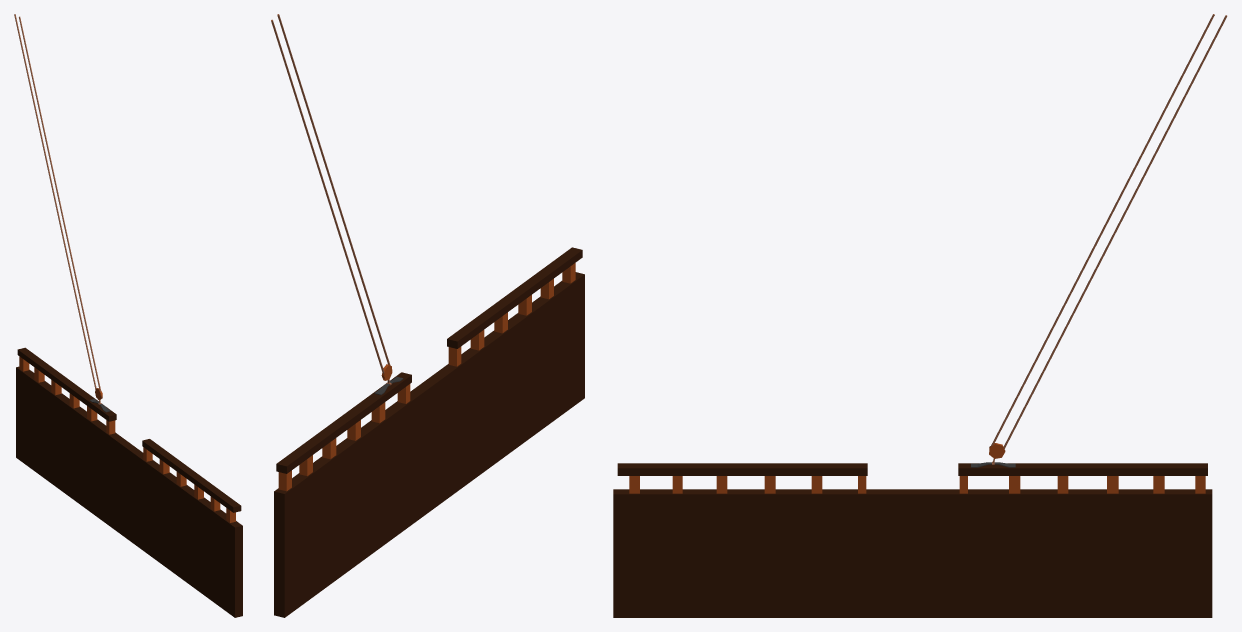
File: bordaBarco.FBX
3 renders of one model, left to right at view 1: azimuth 30°, elevation 25°; view 2: azimuth 150°, elevation 25°; view 3: azimuth 270°, elevation 25°, orthographic. The views are drawn at different scales.
Parts seen in each view (by area): view 1: Box001; view 2: Box001; view 3: Box001.
Part boxes in pixels (x1=…): Box001: x1=14, y1=14, x2=242, y2=617; Box001: x1=271, y1=14, x2=584, y2=617; Box001: x1=613, y1=14, x2=1227, y2=617.
Size of the model in its own units: 18.65 by 1005 by 930.
